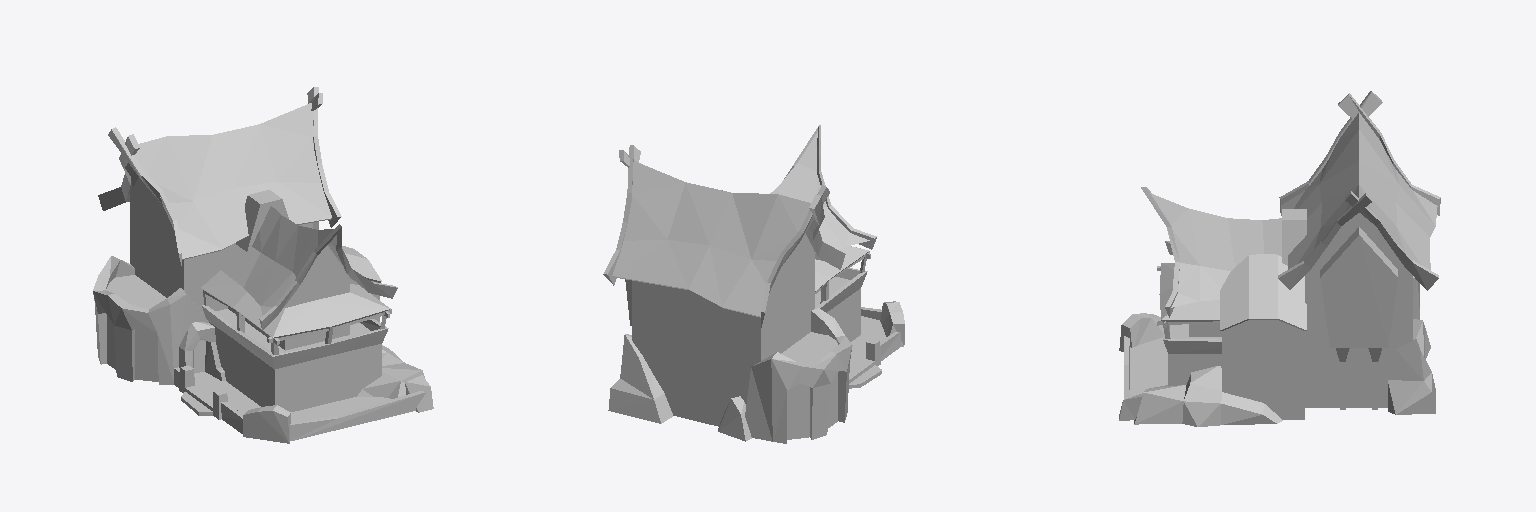
The model's file is HOUSE.obj.
3 views of the same model, side by side, from view 1: azimuth 30°, elevation 25°; view 2: azimuth 150°, elevation 25°; view 3: azimuth 270°, elevation 25° (orthographic).
Parts seen in each view (by area): view 1: HOUSE_House_UV.012; view 2: HOUSE_House_UV.012; view 3: HOUSE_House_UV.012.
Part boxes in pixels (x1,y1,x2,y2): HOUSE_House_UV.012: (93, 87, 433, 443); HOUSE_House_UV.012: (603, 125, 904, 443); HOUSE_House_UV.012: (1119, 91, 1440, 426).
Bounding box in the file's own units: 3.36 × 3.44 × 4.24.